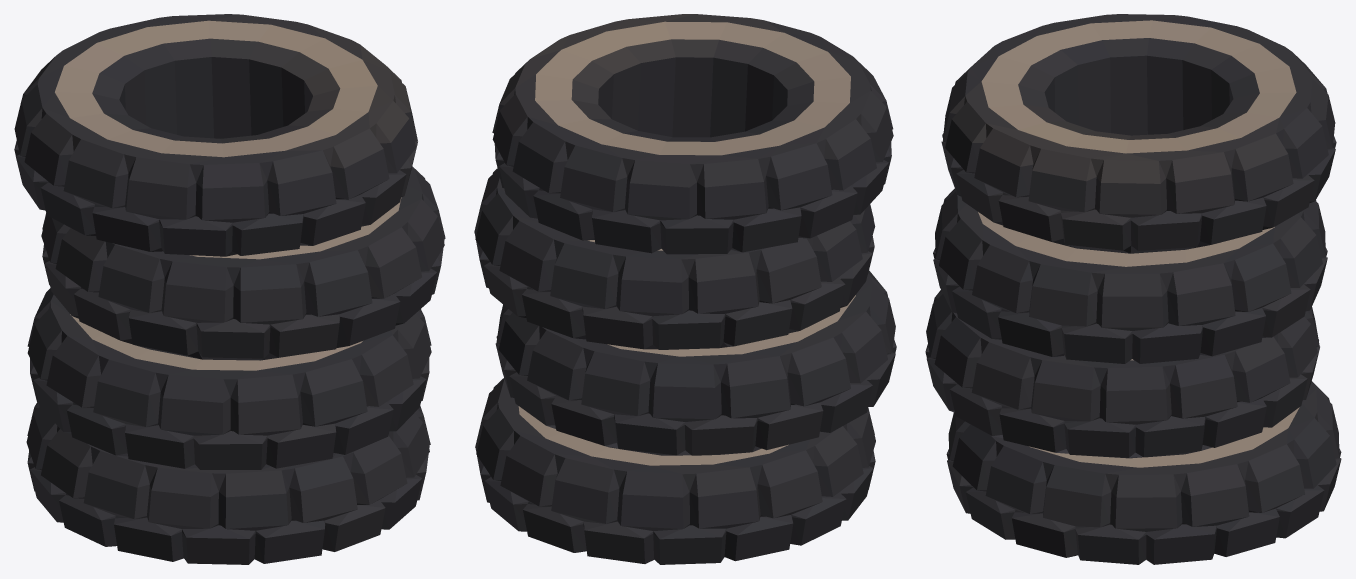
Rendered from tyre-stack-ad4692.glb.
3 renders of one model, left to right at view 1: azimuth 30°, elevation 25°; view 2: azimuth 150°, elevation 25°; view 3: azimuth 270°, elevation 25°, orthographic. The views are drawn at different scales.
Visible parts, largest first — view 1: tyres; view 2: tyres; view 3: tyres.
Boxes of the visible parts, <box> form: tyres: <box>14,14,445,564</box>; tyres: <box>474,14,896,564</box>; tyres: <box>925,14,1341,564</box>.
Size of the model in its own units: 0.7456 by 0.798 by 0.7373.
